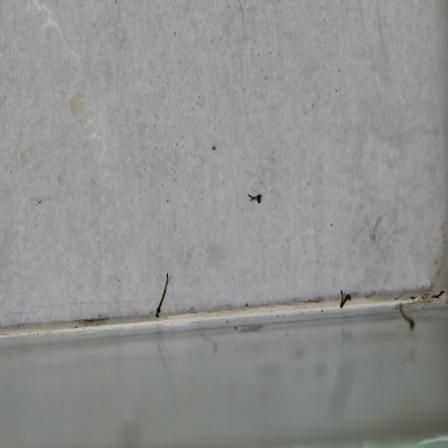Jentik-Nyamuk: (152, 269, 174, 325), (336, 287, 354, 313), (243, 189, 266, 209)
